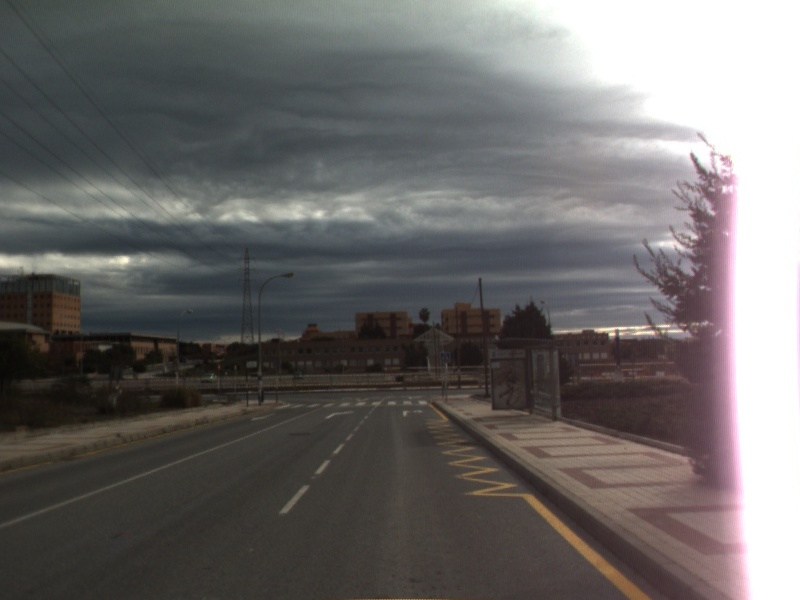RIGHT: (323, 407, 358, 421), (400, 407, 426, 420)
